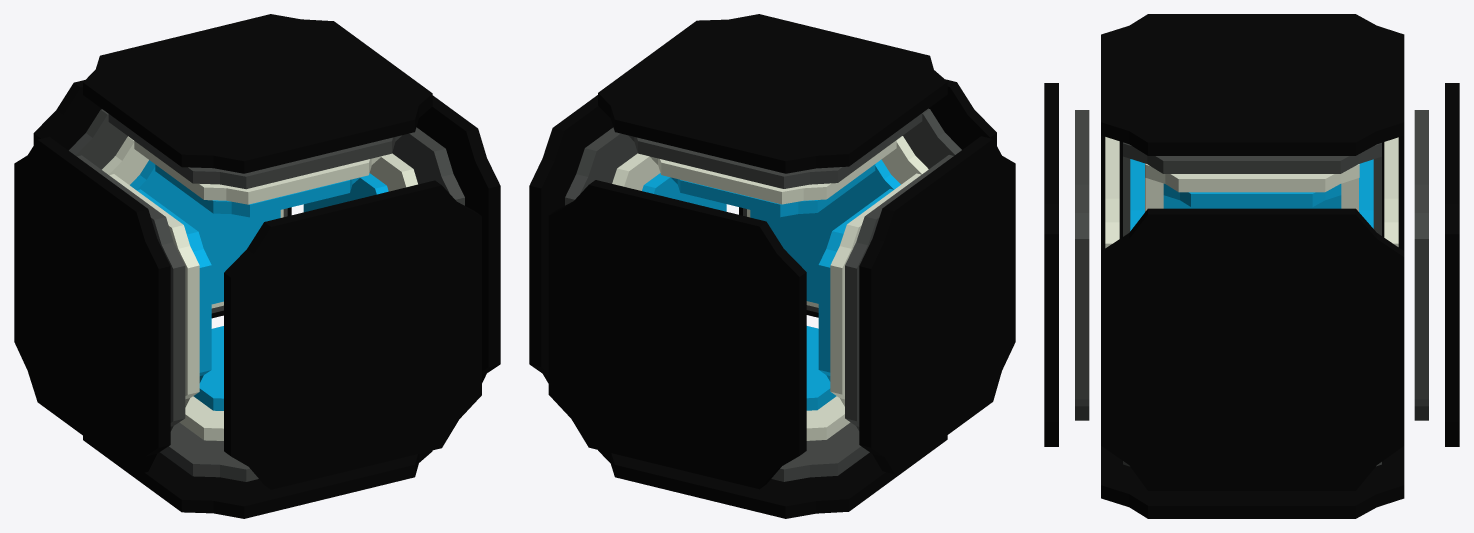
The picture shows the model from 3 angles, left to right: view 1: azimuth 30°, elevation 25°; view 2: azimuth 150°, elevation 25°; view 3: azimuth 270°, elevation 25°; orthographic projection. The views are drawn at different scales.
Parts seen in each view (by area): view 1: Cube.021; view 2: Cube.021; view 3: Cube.021.
Part boxes in pixels (left/top/right/bottom): Cube.021: left=14, top=14, right=500, bottom=518; Cube.021: left=529, top=14, right=1015, bottom=518; Cube.021: left=1044, top=14, right=1459, bottom=518.
Size of the model in its own units: 200 by 200 by 200.
